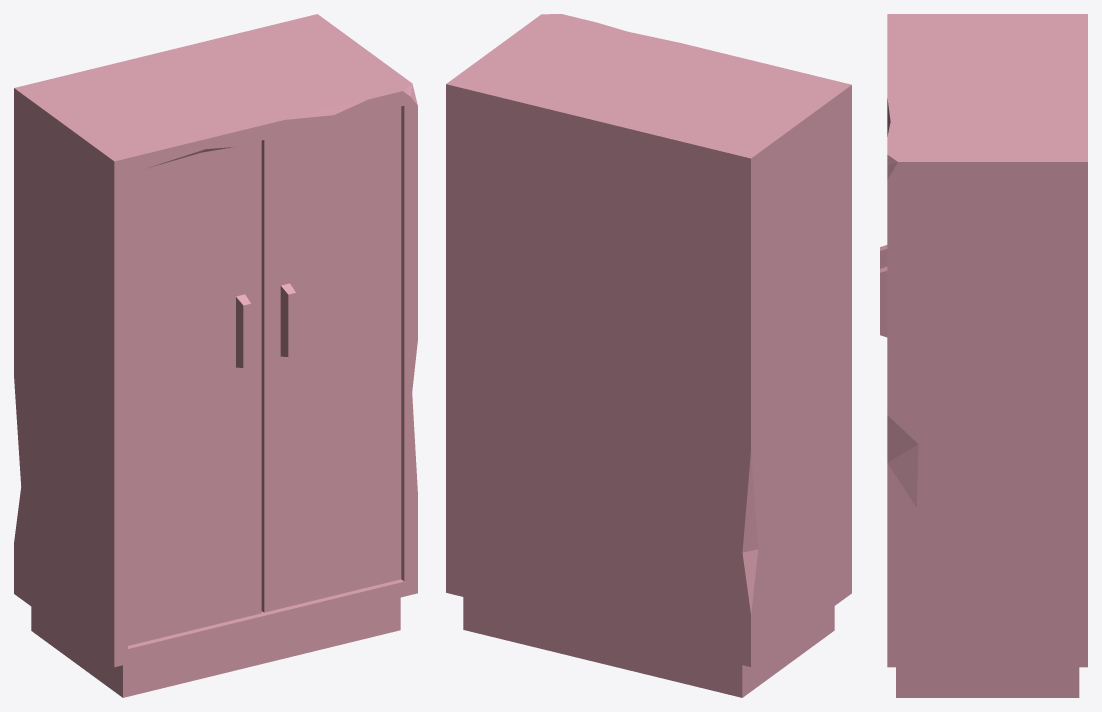
Rendered from Closet.fbx.
The picture shows the model from 3 angles, left to right: view 1: azimuth 30°, elevation 25°; view 2: azimuth 150°, elevation 25°; view 3: azimuth 270°, elevation 25°; orthographic projection.
Visible parts, largest first — view 1: Closet; view 2: Closet; view 3: Closet.
Boxes of the visible parts, left/top/right/bottom form: Closet: left=14, top=14, right=417, bottom=697; Closet: left=446, top=14, right=851, bottom=697; Closet: left=880, top=14, right=1087, bottom=697.
Size of the model in its own units: 120 by 205 by 71.17.
